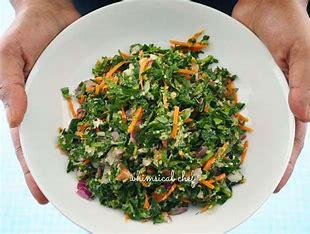Gotukola Mallum: (64, 43, 256, 210)
